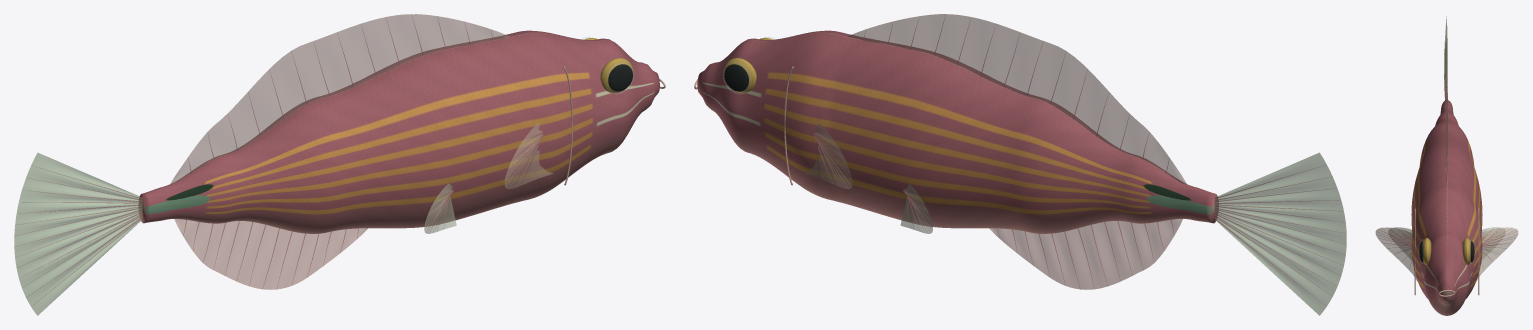
The model's file is sixline-desktop.glb.
3 renders of one model, left to right at view 1: azimuth 30°, elevation 25°; view 2: azimuth 150°, elevation 25°; view 3: azimuth 270°, elevation 25°, orthographic. The views are drawn at different scales.
Parts seen in each view (by area): view 1: skin, dorsal, tail, anal, dorsal-ray, pectoral-left, pelvic-left, eye-pupil--1, eye-iris--1; view 2: skin, dorsal, tail, anal, dorsal-ray, pectoral-left, pelvic-left, eye-pupil--1; view 3: skin, pectoral-left, pelvic-left, dorsal-ray, eye-iris--1, operculum, tail, dorsal, eye-pupil--1.
Boxes of the visible parts, x1=… form: skin: x1=138, y1=30, x2=659, y2=233; dorsal: x1=170, y1=14, x2=509, y2=184; tail: x1=14, y1=153, x2=142, y2=315; anal: x1=174, y1=219, x2=367, y2=289; dorsal-ray: x1=16, y1=17, x2=543, y2=299; pectoral-left: x1=504, y1=123, x2=552, y2=189; pelvic-left: x1=424, y1=184, x2=456, y2=233; eye-pupil--1: x1=608, y1=64, x2=632, y2=91; eye-iris--1: x1=585, y1=38, x2=633, y2=93; skin: x1=697, y1=30, x2=1218, y2=233; dorsal: x1=848, y1=14, x2=1187, y2=184; tail: x1=1214, y1=152, x2=1346, y2=315; anal: x1=989, y1=219, x2=1182, y2=289; dorsal-ray: x1=813, y1=15, x2=1345, y2=304; pectoral-left: x1=804, y1=123, x2=852, y2=188; pelvic-left: x1=900, y1=184, x2=932, y2=233; eye-pupil--1: x1=724, y1=64, x2=748, y2=91; skin: x1=1411, y1=100, x2=1482, y2=315; pectoral-left: x1=1375, y1=227, x2=1518, y2=281; pelvic-left: x1=1388, y1=227, x2=1505, y2=259; dorsal-ray: x1=1380, y1=30, x2=1514, y2=263; eye-iris--1: x1=1423, y1=238, x2=1470, y2=264; operculum: x1=1414, y1=208, x2=1479, y2=296; tail: x1=1444, y1=16, x2=1447, y2=100; dorsal: x1=1446, y1=79, x2=1447, y2=180; eye-pupil--1: x1=1419, y1=241, x2=1474, y2=262.
Bounding box in the file's own units: 0.5972 × 0.2171 × 0.1571.
Materials: 11 (1 with a texture image).
